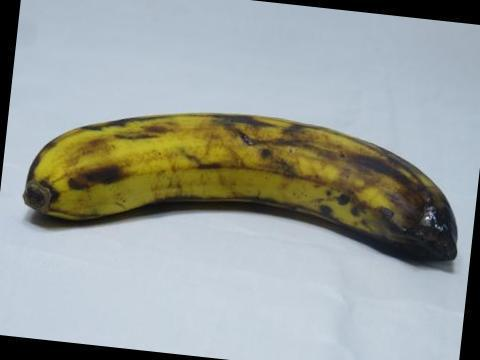overripe: (12, 76, 479, 288)
rotten: (344, 152, 457, 258)
